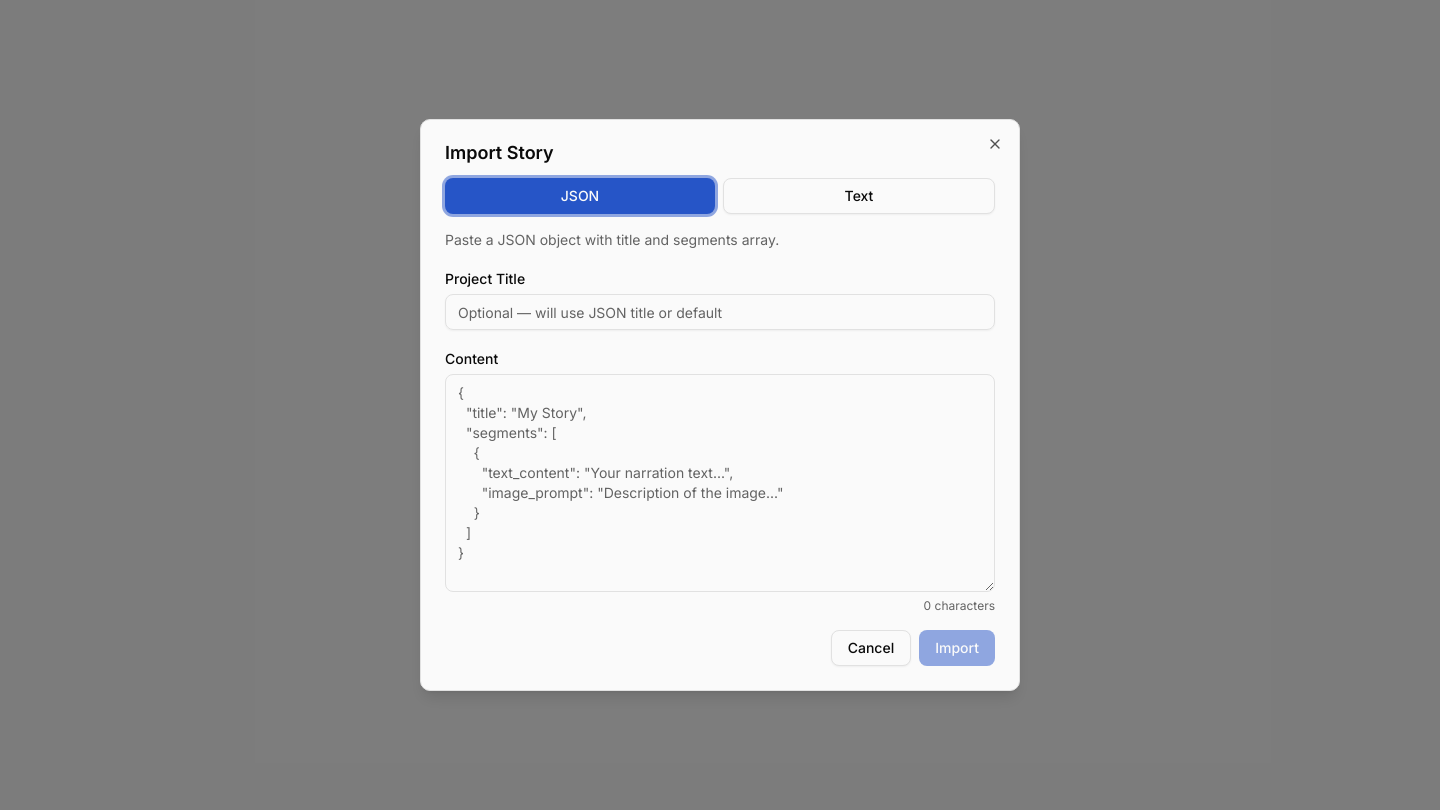
Test case: ImportDialog › format toggle switches between JSON and Text
The width and height of the screenshot is (1440, 810).
Click the button "Text" at coordinates (859, 196), box [723,178,995,214]
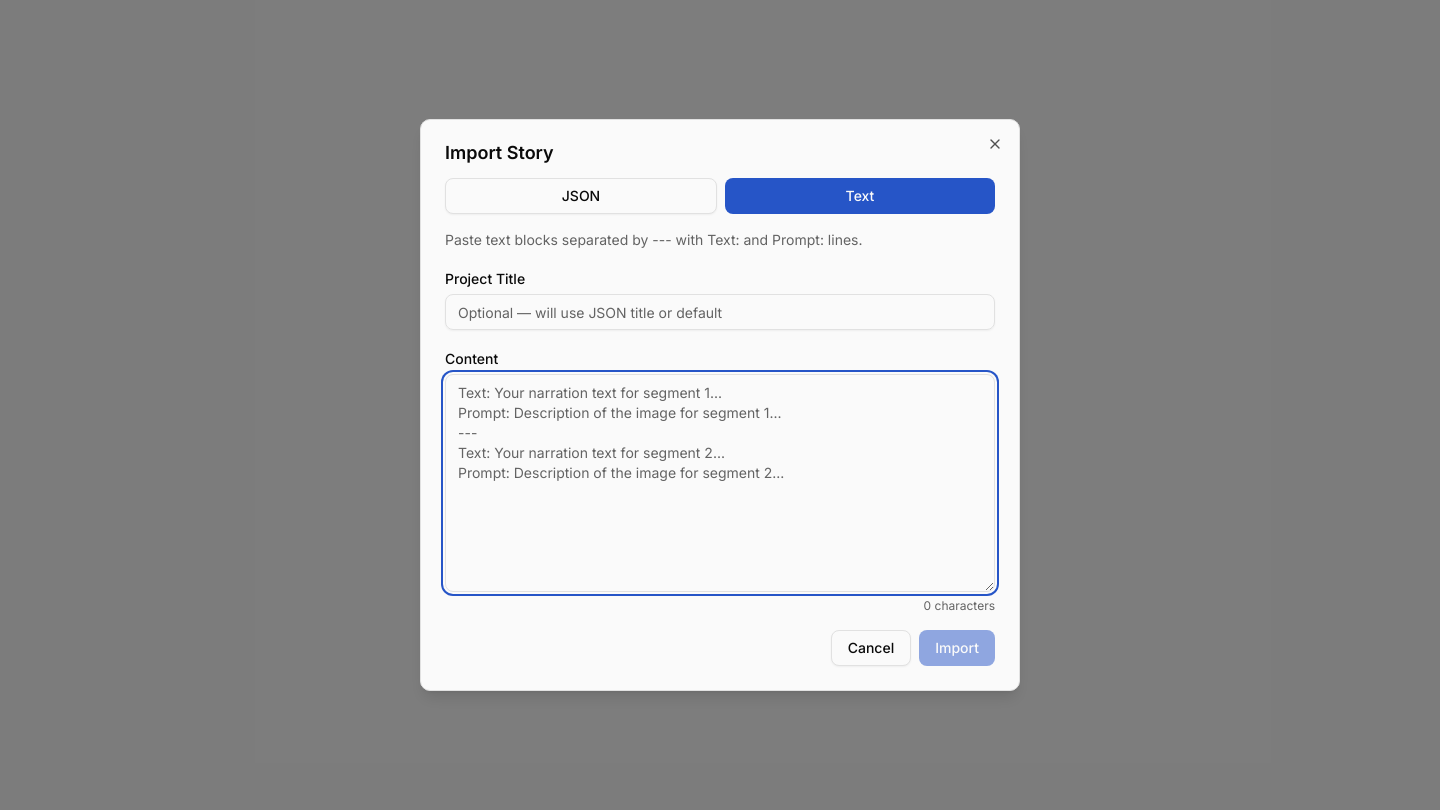
Now the text box with placeholder "Text:" is shown, box [445,374,995,592]
